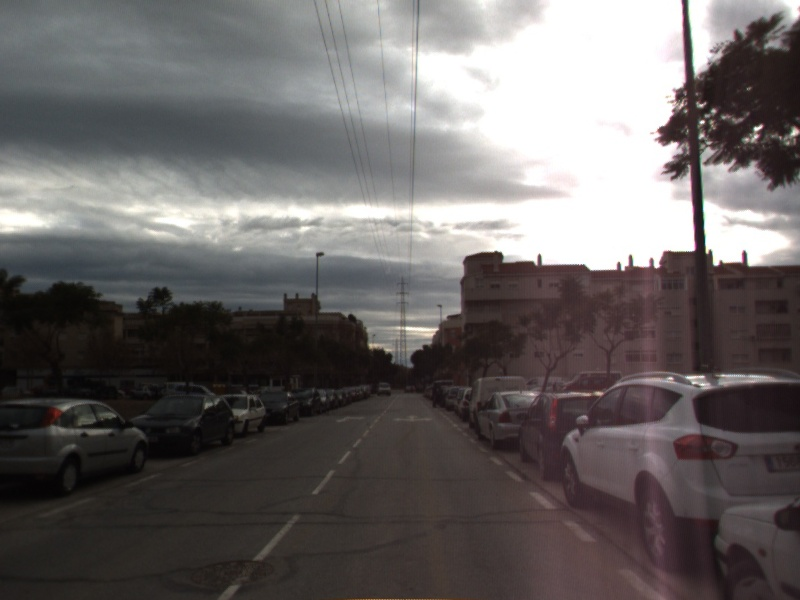STRAIGHT_LEFT_RIGHT: (391, 413, 435, 424)
